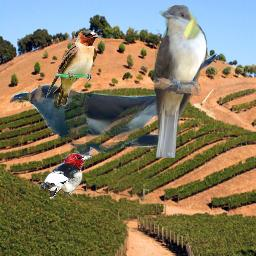Cuckoo: (10, 51, 225, 158), (151, 5, 207, 158)
Swallow: (46, 30, 99, 106)
Woodpecker: (39, 153, 95, 199)
